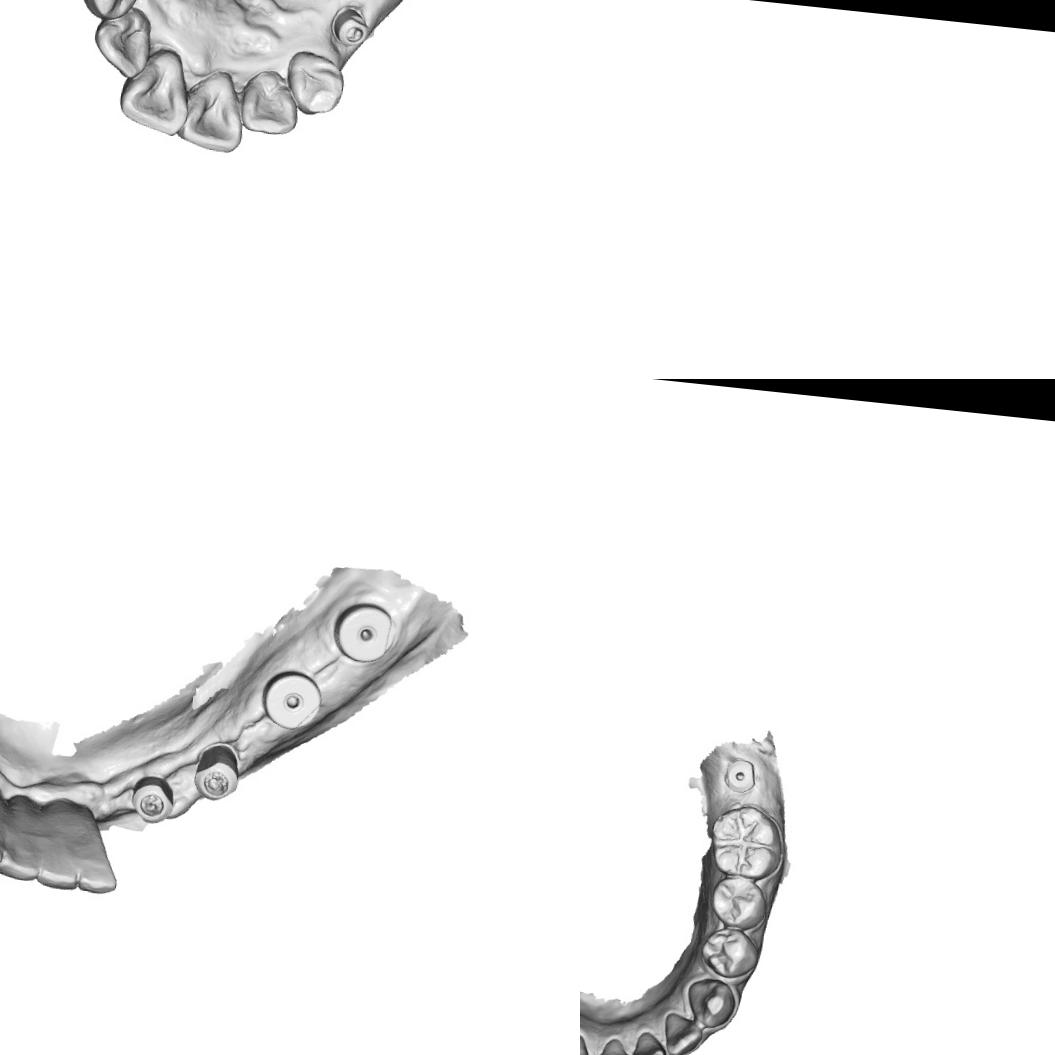canine: (283, 48, 348, 119), (681, 975, 739, 1032), (76, 0, 143, 24)
implant: (332, 598, 398, 668), (259, 666, 326, 734), (191, 740, 243, 804), (127, 772, 180, 827), (330, 2, 376, 55), (721, 755, 760, 795)
incisor: (115, 50, 192, 138), (176, 73, 250, 156), (89, 1, 158, 83), (238, 66, 303, 140), (73, 830, 126, 898), (0, 819, 43, 888), (34, 841, 84, 895), (659, 1011, 705, 1055), (627, 1029, 668, 1055), (590, 1033, 635, 1055)
molar: (704, 800, 790, 883)
premolar: (706, 874, 772, 934), (698, 924, 763, 982)
